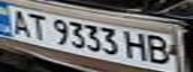3: (81, 22, 103, 54), (100, 25, 121, 57), (66, 20, 87, 51)
9: (45, 16, 72, 46)
A: (3, 7, 33, 37)
B: (142, 33, 175, 65)
H: (121, 29, 151, 62)
T: (24, 11, 51, 40)
